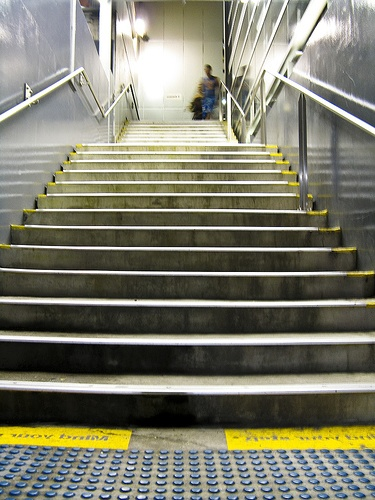stairs_up: (1, 139, 373, 469)
